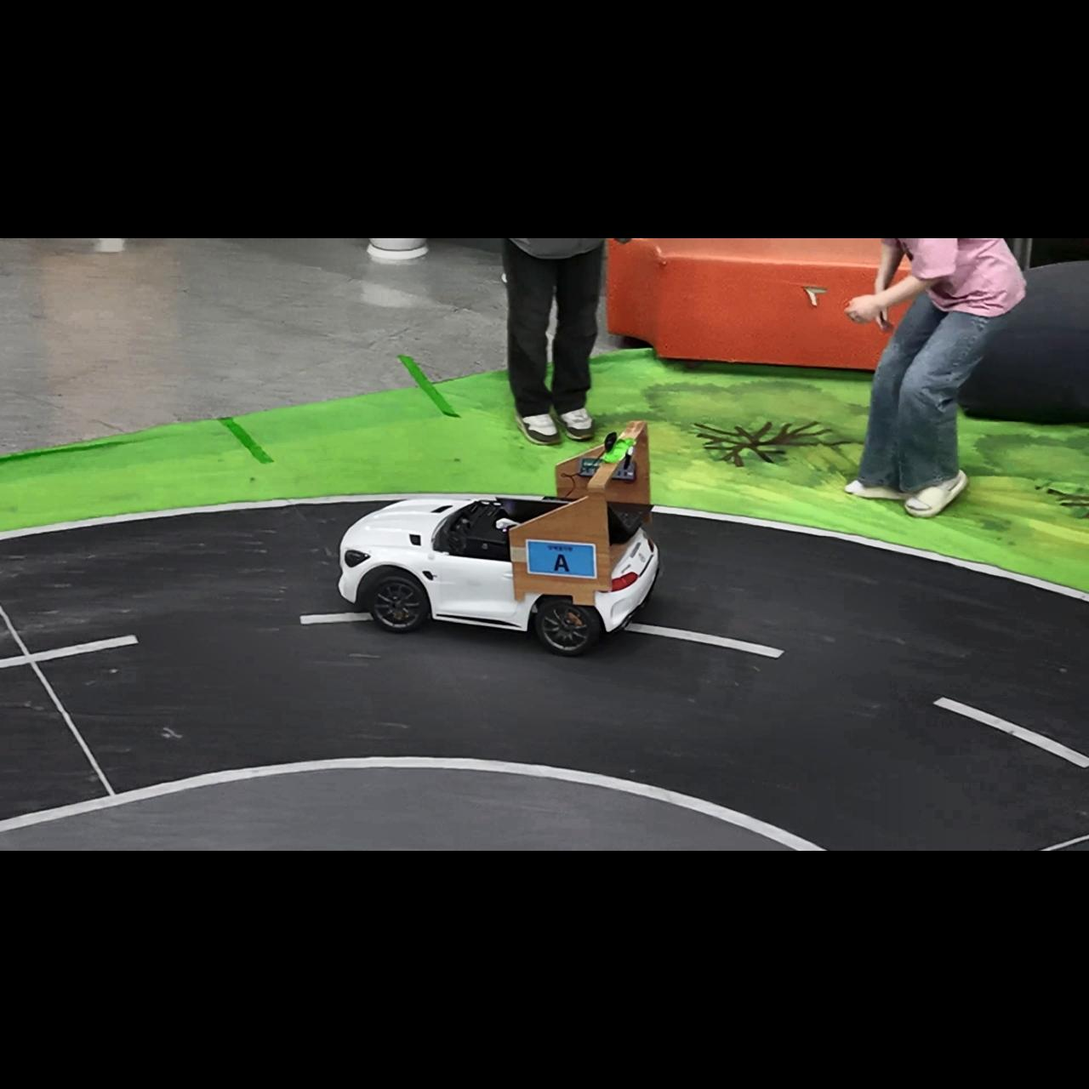broken_line: (933, 697, 1088, 768), (624, 623, 784, 658), (0, 635, 139, 668), (299, 612, 374, 625)
